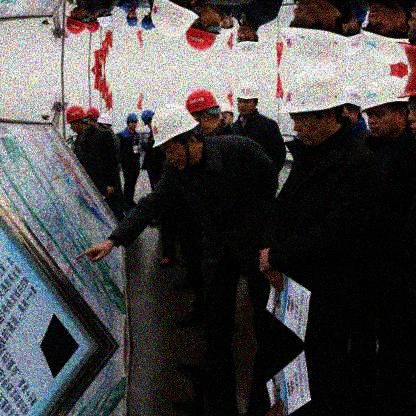helmet: (278, 69, 346, 148), (278, 1, 350, 72), (152, 103, 200, 171), (360, 76, 410, 137), (361, 5, 410, 65), (184, 6, 220, 55), (186, 87, 222, 135), (234, 24, 261, 59), (235, 81, 262, 115), (65, 106, 88, 136), (66, 6, 89, 35), (126, 112, 139, 133), (97, 9, 112, 27), (126, 8, 139, 28)
